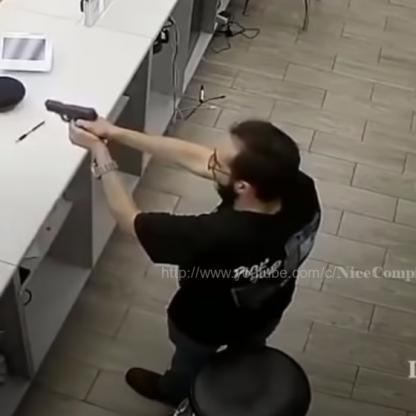criminal: (43, 97, 323, 408)
weapon: (43, 97, 106, 157)
